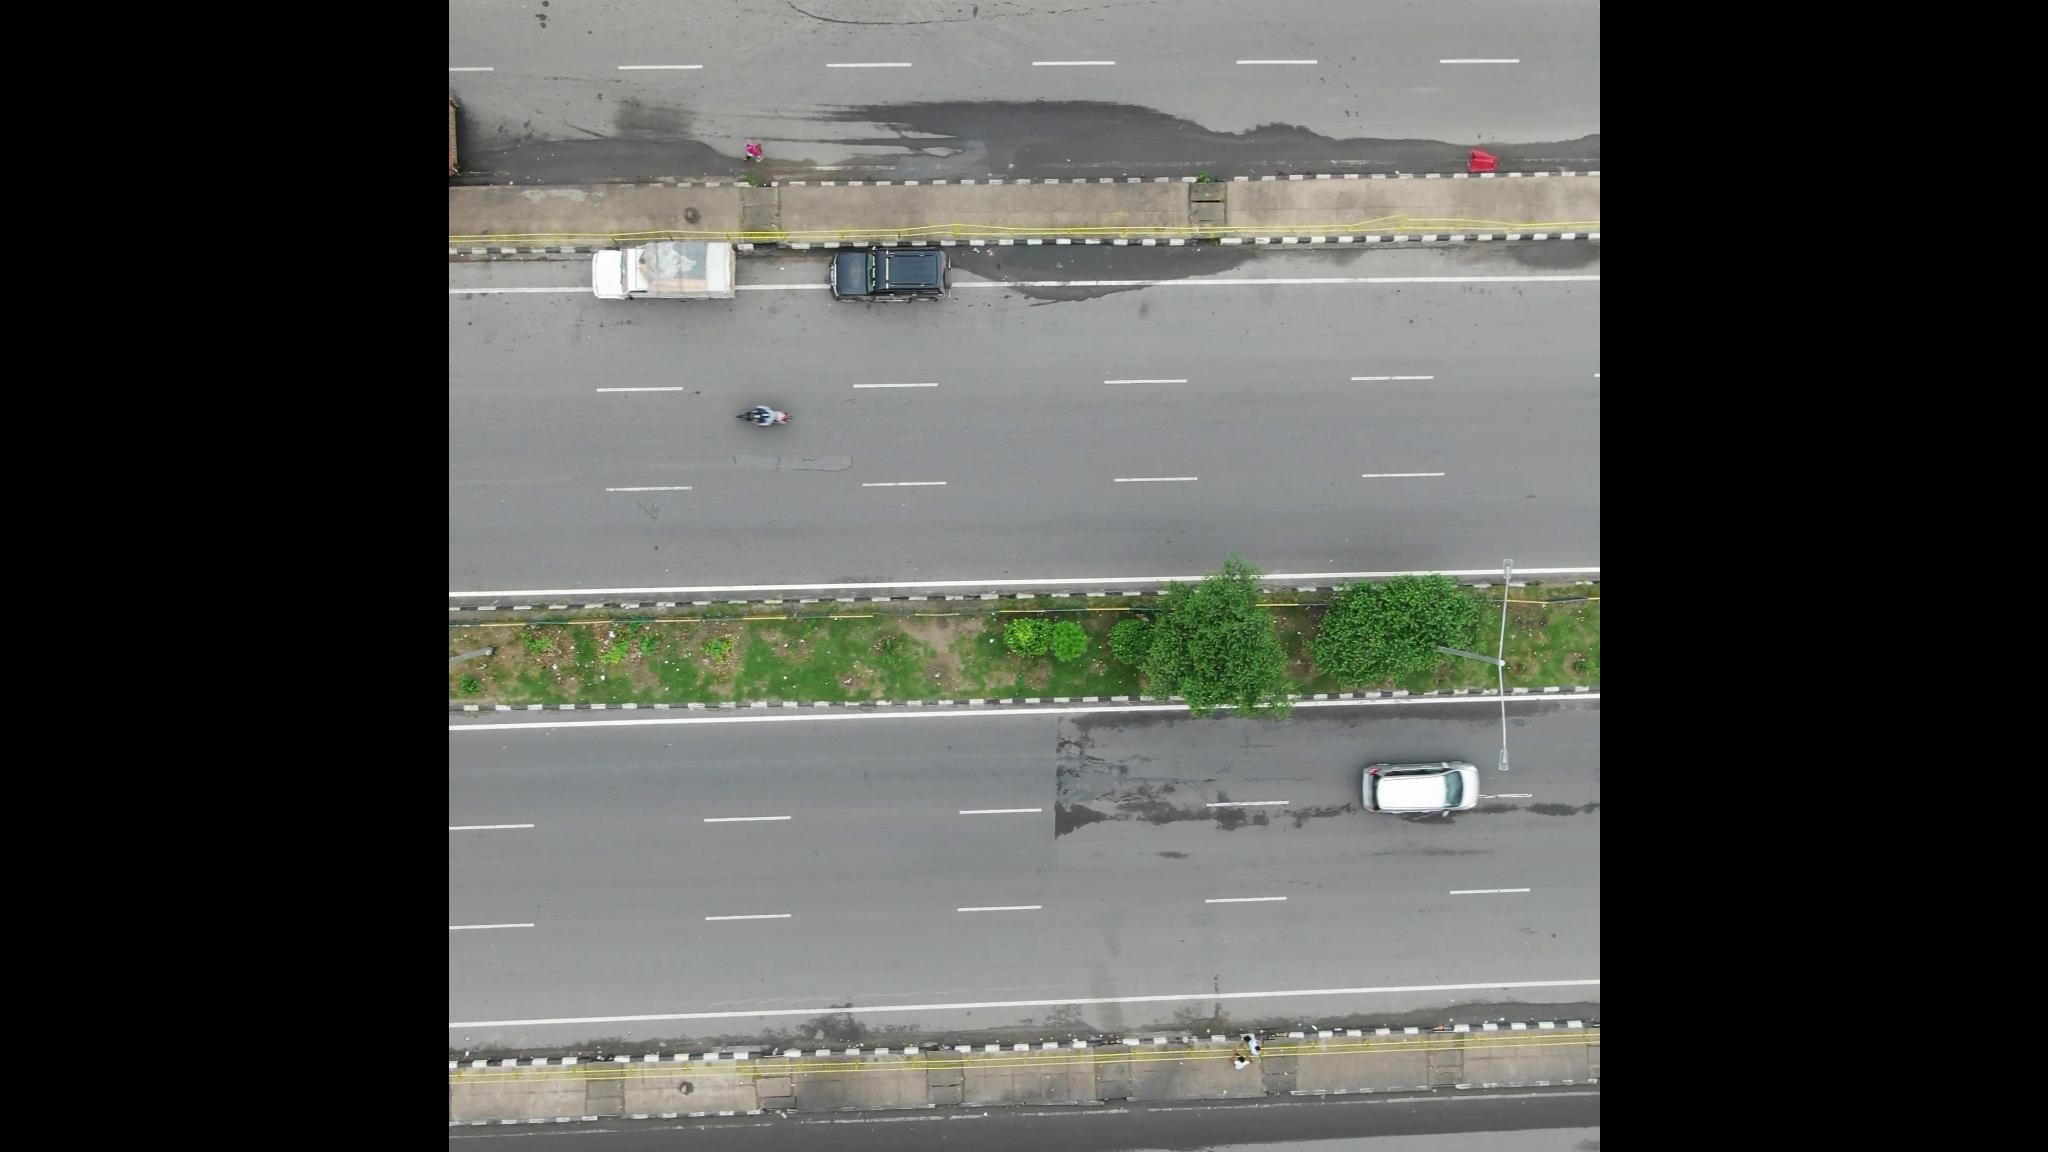Cracks: (1039, 709, 1274, 840), (627, 498, 667, 530)
Ravelling: (1293, 802, 1357, 826)
